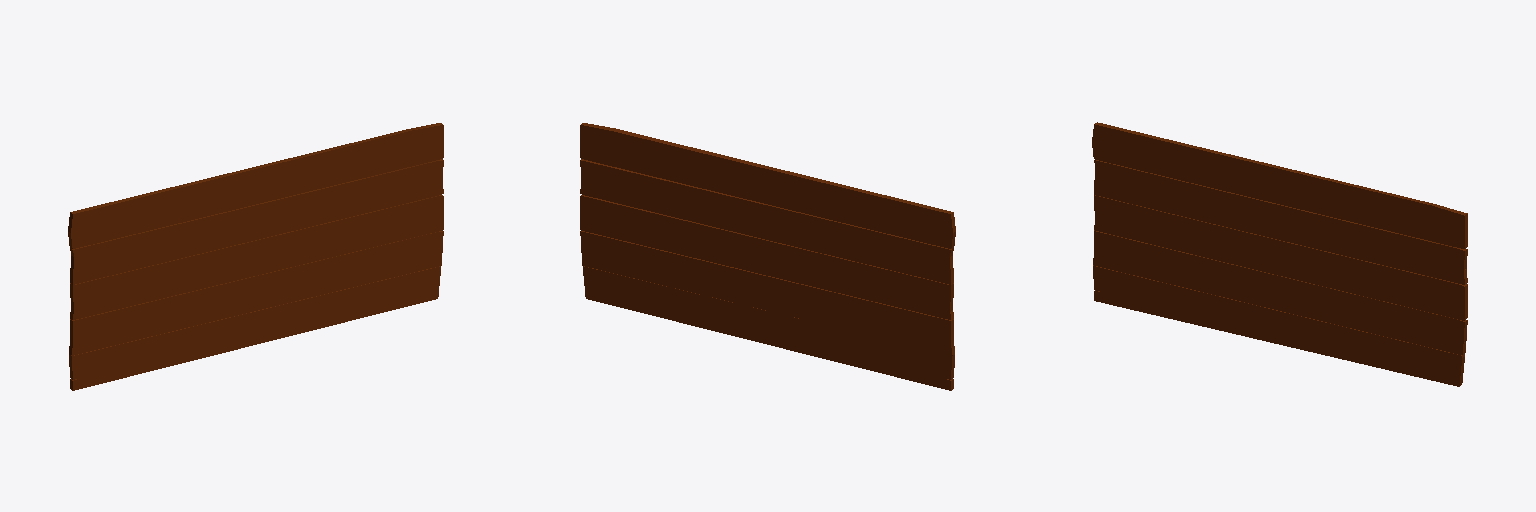
File: Plaque.obj
3 views of the same model, side by side, from view 1: azimuth 30°, elevation 25°; view 2: azimuth 150°, elevation 25°; view 3: azimuth 330°, elevation 25° (orthographic).
Visible parts, largest first — view 1: Sign12; view 2: Sign12; view 3: Sign12.
Boxes of the visible parts, x1,y1,x2,y2 form: Sign12: [68, 123, 443, 390]; Sign12: [580, 123, 955, 390]; Sign12: [1092, 122, 1467, 386].
Bounding box in the file's own units: 2.99 × 1.36 × 0.0408.